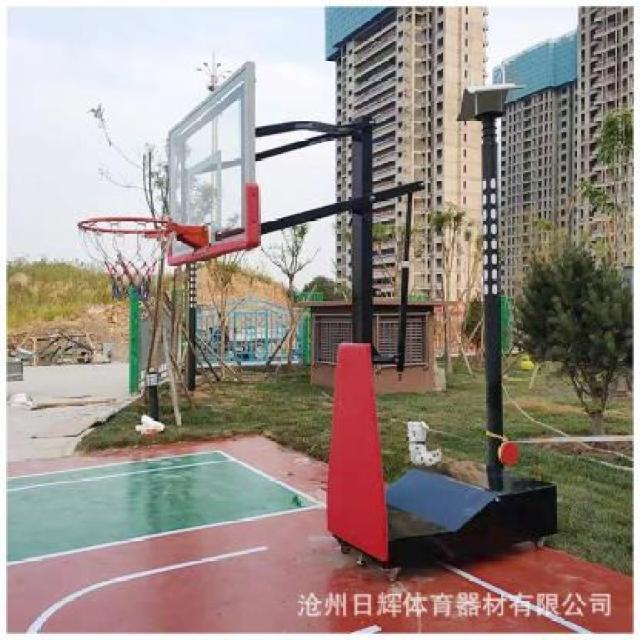rim: (78, 216, 178, 300)
